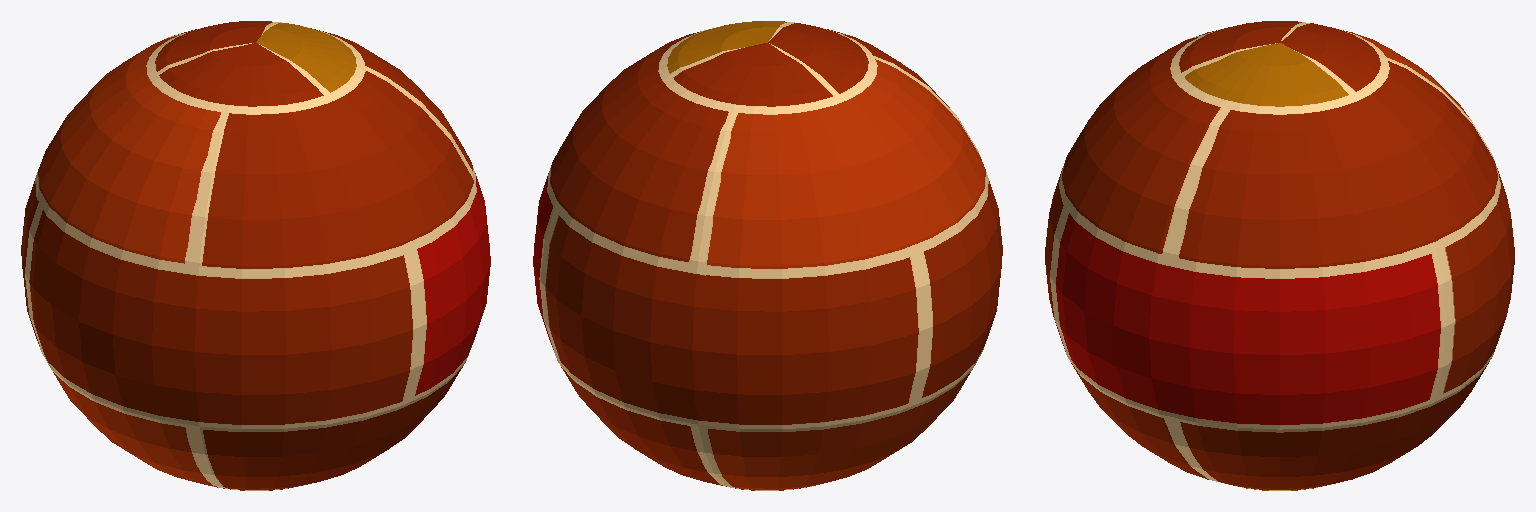
3 views of the same model, side by side, from view 1: azimuth 30°, elevation 25°; view 2: azimuth 150°, elevation 25°; view 3: azimuth 270°, elevation 25° (orthographic).
Visible parts, largest first — view 1: 球; view 2: 球; view 3: 球.
Boxes of the visible parts, x1=… form: 球: x1=21, y1=21, x2=490, y2=490; 球: x1=533, y1=21, x2=1002, y2=490; 球: x1=1045, y1=21, x2=1514, y2=490.
Size of the model in its own units: 1000 by 1000 by 1000.
1 materials, 1 textured.